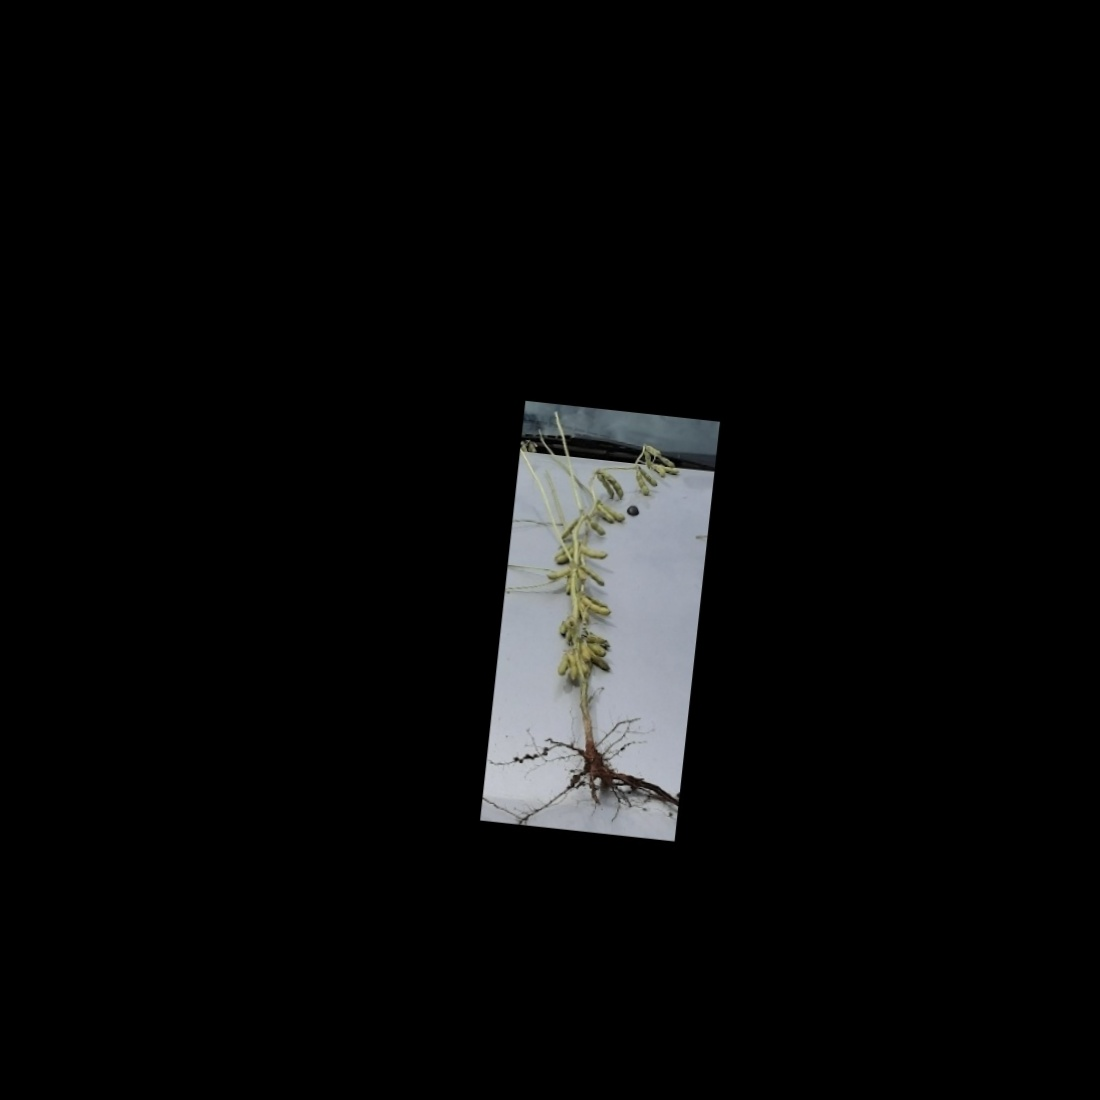pod: (574, 560, 611, 592), (573, 594, 614, 620), (595, 471, 629, 501), (594, 470, 618, 505), (573, 543, 613, 563), (635, 464, 661, 490), (540, 566, 573, 584), (634, 468, 652, 500), (652, 451, 679, 471), (553, 652, 571, 679), (645, 443, 665, 459)
soy: (501, 418, 696, 801)
